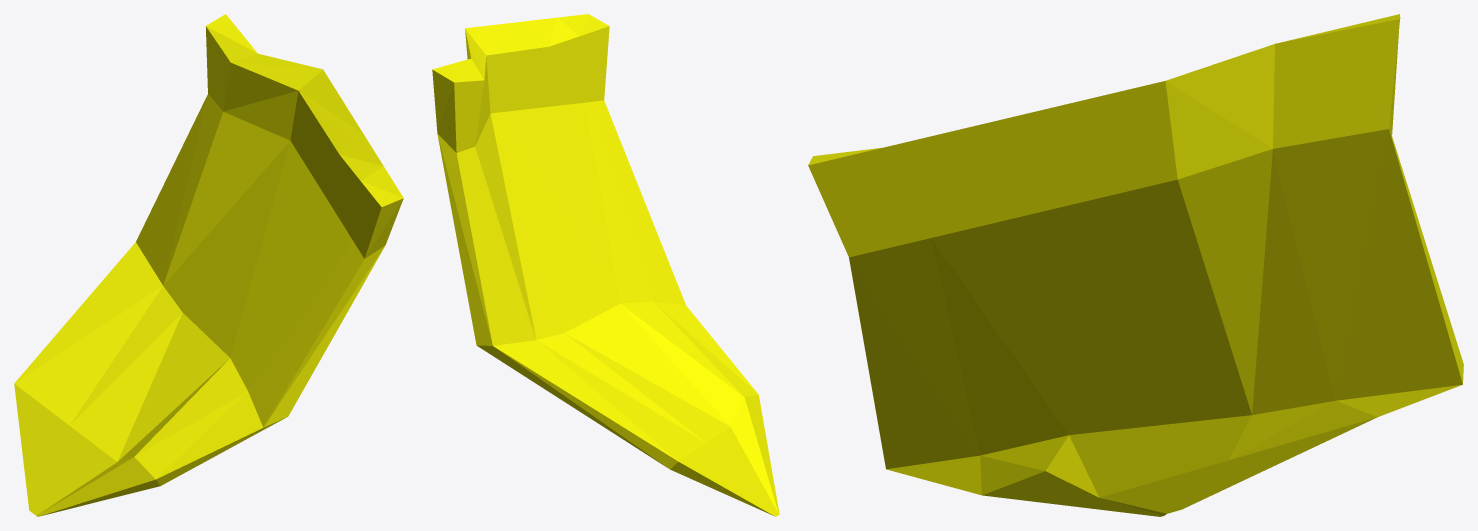
The model's file is Vegetation_Modular_Rush_Frond_Flower_Petal_01.fbx.
The picture shows the model from 3 angles, left to right: view 1: azimuth 30°, elevation 25°; view 2: azimuth 150°, elevation 25°; view 3: azimuth 270°, elevation 25°; orthographic projection. The views are drawn at different scales.
Visible parts, largest first — view 1: Vegetation_Modular_Rush_Frond_Flower_Petal_01; view 2: Vegetation_Modular_Rush_Frond_Flower_Petal_01; view 3: Vegetation_Modular_Rush_Frond_Flower_Petal_01.
Part boxes in pixels (x1,y1,x2,y2): Vegetation_Modular_Rush_Frond_Flower_Petal_01: (14,14,403,516); Vegetation_Modular_Rush_Frond_Flower_Petal_01: (432,14,779,516); Vegetation_Modular_Rush_Frond_Flower_Petal_01: (808,14,1463,516).
Bounding box in the file's own units: 8.06 × 10.47 × 8.57.
